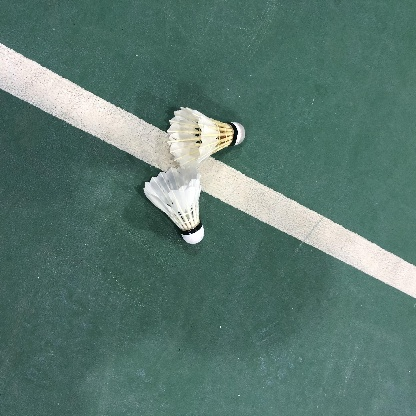ball_single: (167, 107, 246, 169), (143, 164, 204, 244)
